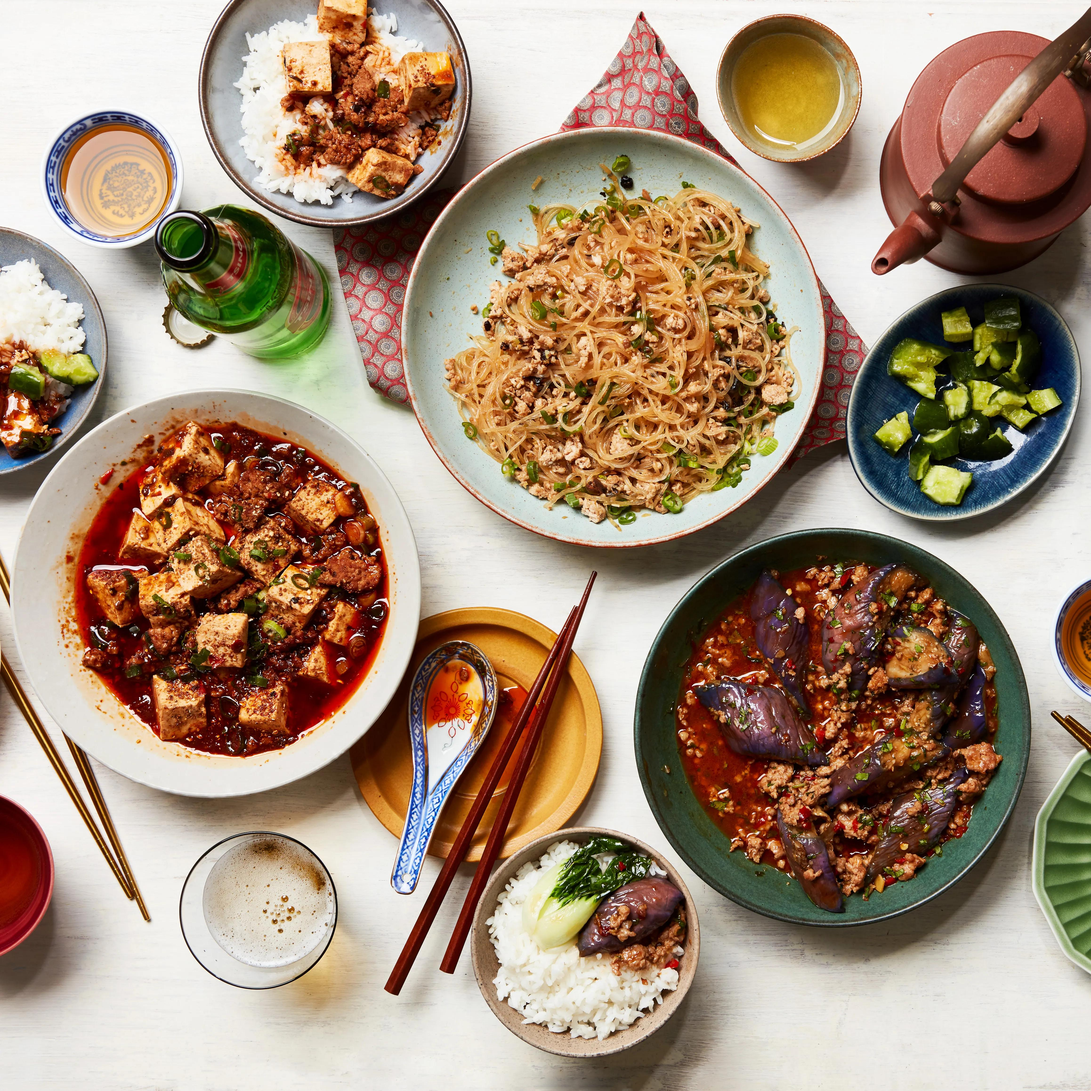Braised Crucian Carp: (0, 386, 422, 820), (399, 128, 831, 551), (628, 518, 1038, 961)
